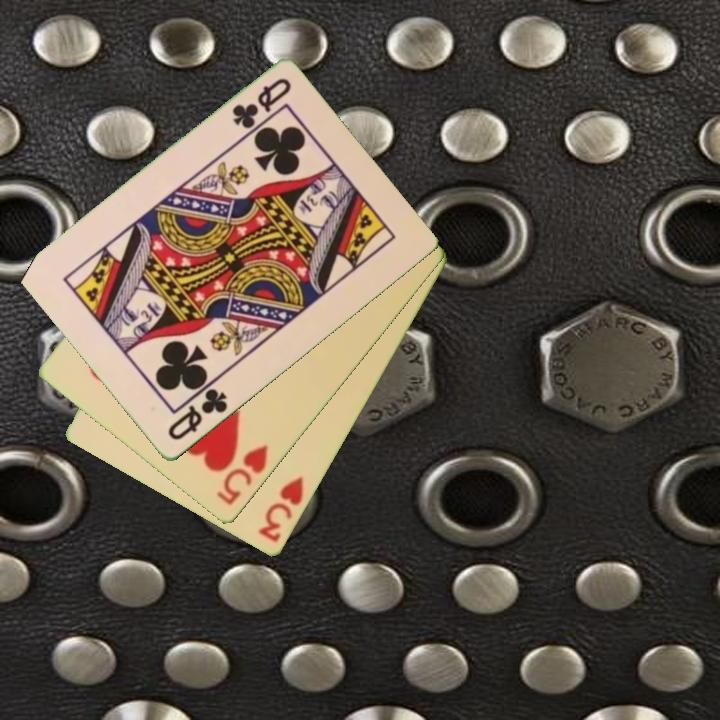3h: (254, 473, 307, 546)
5h: (213, 441, 271, 509)
Qc: (164, 385, 231, 444), (228, 75, 294, 132)
